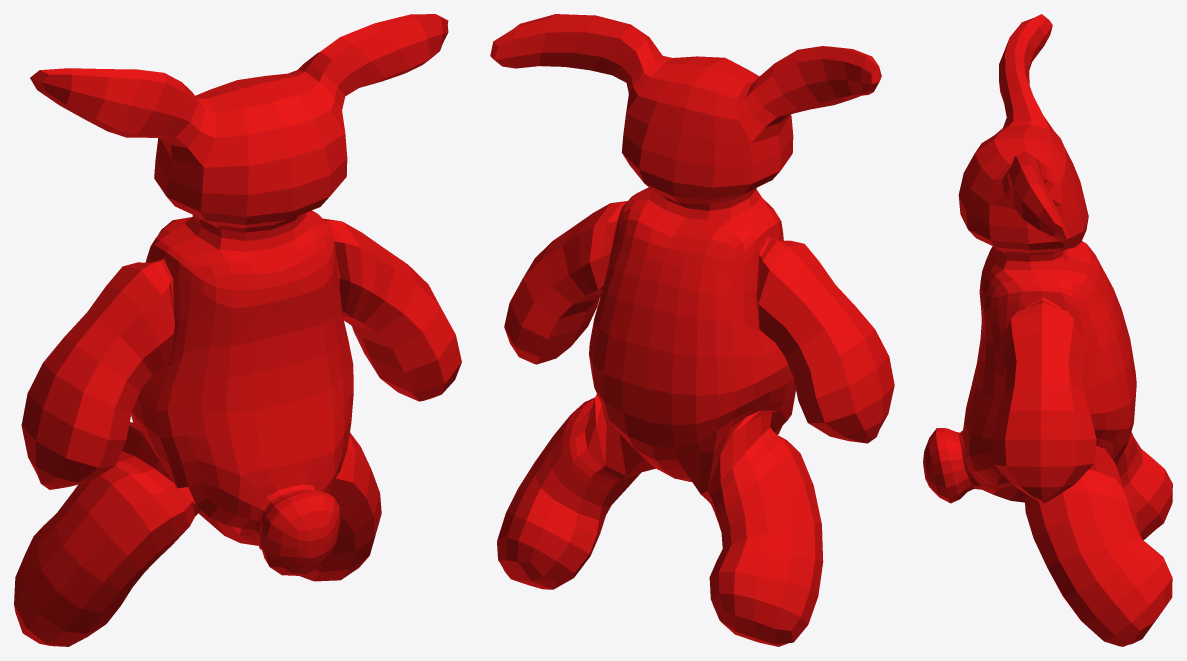
Rendered from stuffed_toy_002-2.FBX.
The picture shows the model from 3 angles, left to right: view 1: azimuth 30°, elevation 25°; view 2: azimuth 150°, elevation 25°; view 3: azimuth 270°, elevation 25°; orthographic projection. The views are drawn at different scales.
Parts seen in each view (by area): view 1: stuffedFriend_bak_002; view 2: stuffedFriend_bak_002; view 3: stuffedFriend_bak_002.
Part boxes in pixels (bbox=[...]): stuffedFriend_bak_002: bbox=[14, 14, 461, 646]; stuffedFriend_bak_002: bbox=[490, 14, 894, 646]; stuffedFriend_bak_002: bbox=[923, 14, 1172, 646].
Size of the model in its own units: 0.5397 by 0.7611 by 0.3436.
